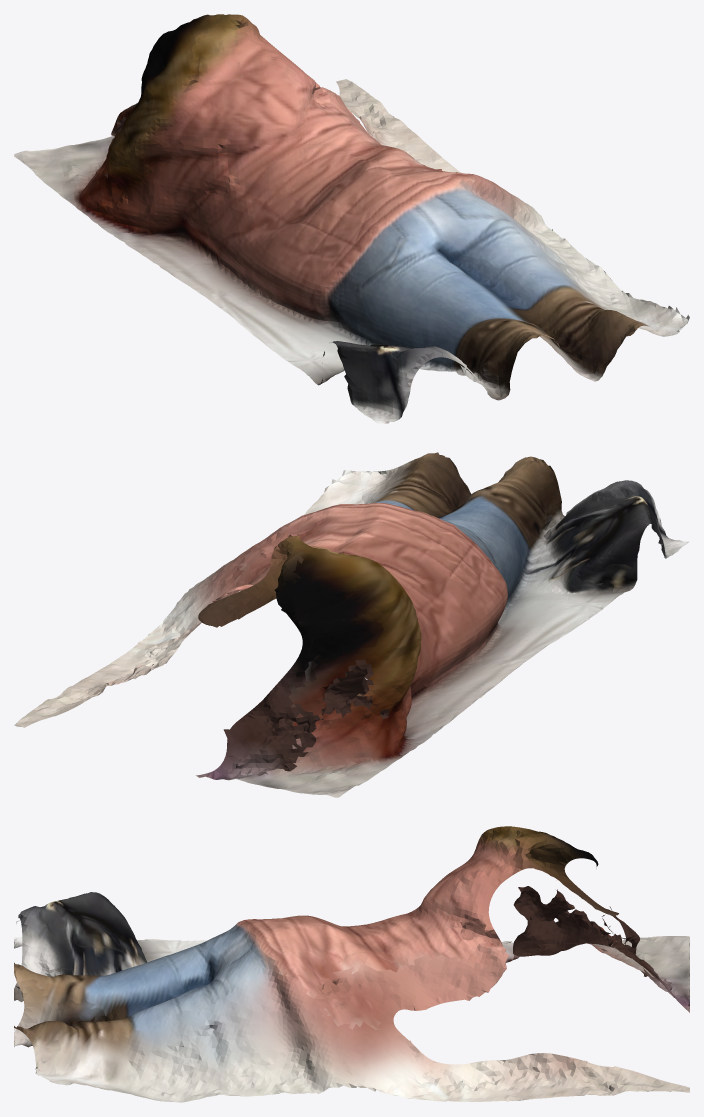
The picture shows the model from 3 angles, top to bottom: view 1: azimuth 30°, elevation 25°; view 2: azimuth 150°, elevation 25°; view 3: azimuth 270°, elevation 25°; orthographic projection. The views are drawn at different scales.
Size of the model in its own units: 0.6978 by 0.379 by 1.32.
Materials: 1 (1 with a texture image).
